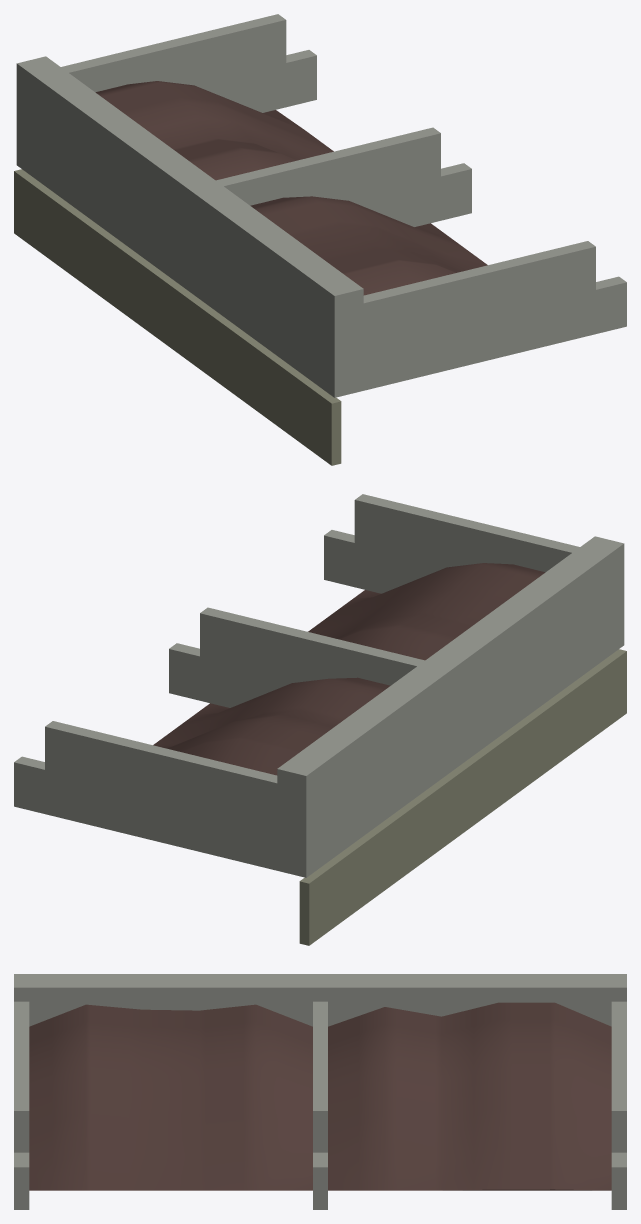
The model's file is platform_wall.fbx.
3 renders of one model, top to bottom at view 1: azimuth 30°, elevation 25°; view 2: azimuth 150°, elevation 25°; view 3: azimuth 270°, elevation 25°, orthographic. The views are drawn at different scales.
Parts seen in each view (by area): view 1: p464_platform_wall; view 2: p464_platform_wall; view 3: p464_platform_wall.
Part boxes in pixels (x1=…): p464_platform_wall: x1=14, y1=14, x2=626, y2=465; p464_platform_wall: x1=14, y1=494, x2=626, y2=945; p464_platform_wall: x1=14, y1=974, x2=626, y2=1209.
Size of the model in its own units: 8.58 by 4.7 by 16.
